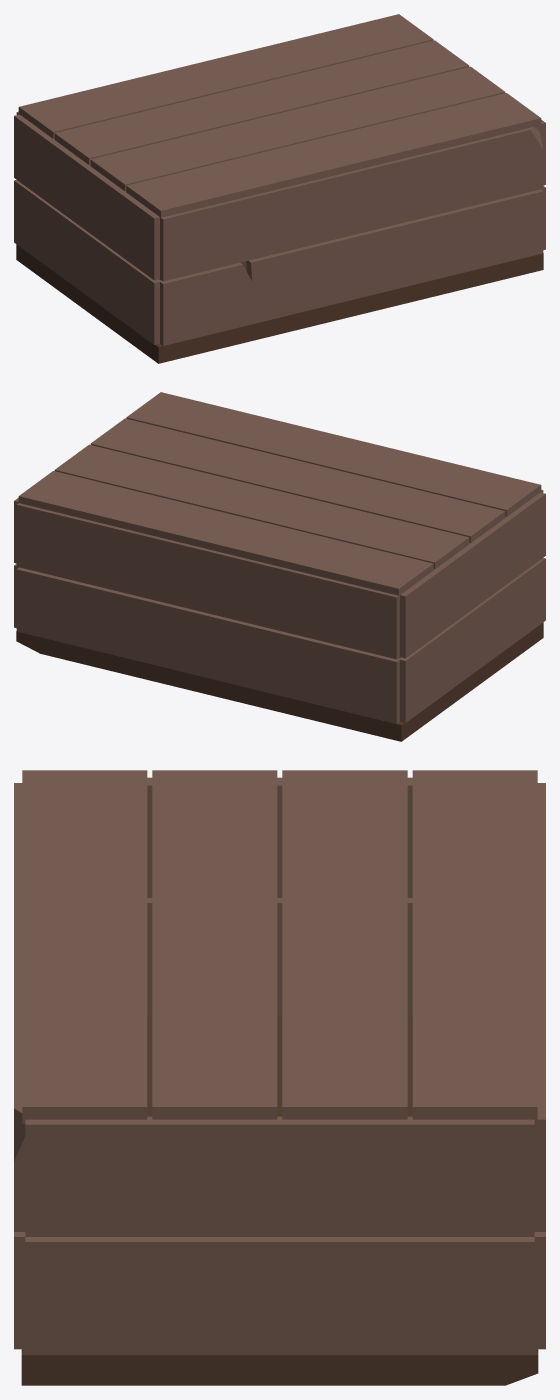
The picture shows the model from 3 angles, top to bottom: view 1: azimuth 30°, elevation 25°; view 2: azimuth 150°, elevation 25°; view 3: azimuth 270°, elevation 25°; orthographic projection. The views are drawn at different scales.
Visible parts, largest first — view 1: Box 3; view 2: Box 3; view 3: Box 3.
Boxes of the visible parts, <box> form: Box 3: <box>14,14,545,363</box>; Box 3: <box>14,392,545,741</box>; Box 3: <box>14,770,545,1385</box>.
Size of the model in its own units: 1.34 by 0.4962 by 0.8656.
